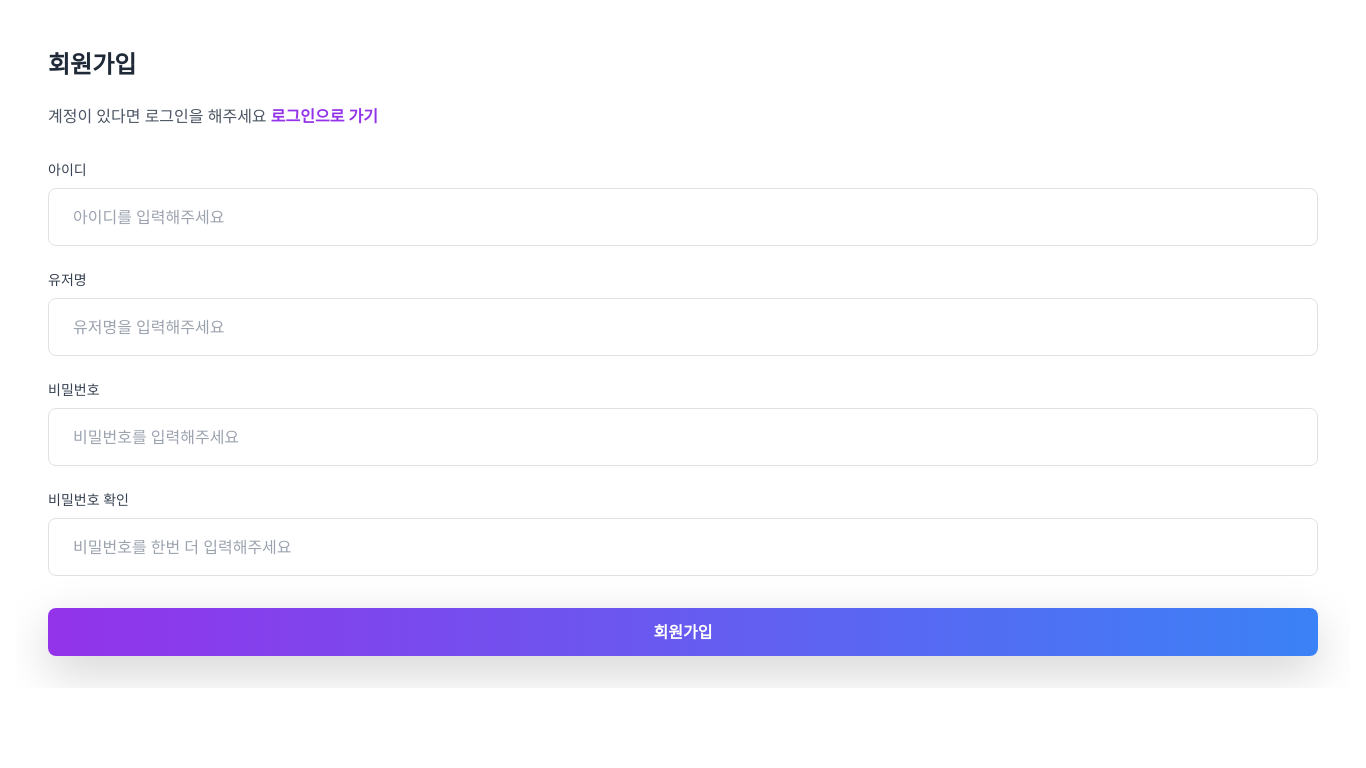
it: UserForm › 회원가입 폼 제출 - 비밀번호 불일치
Type "testId1" into the field labelled "아이디".
click(683, 217); type("testId1")  # box [48,188,1318,246]
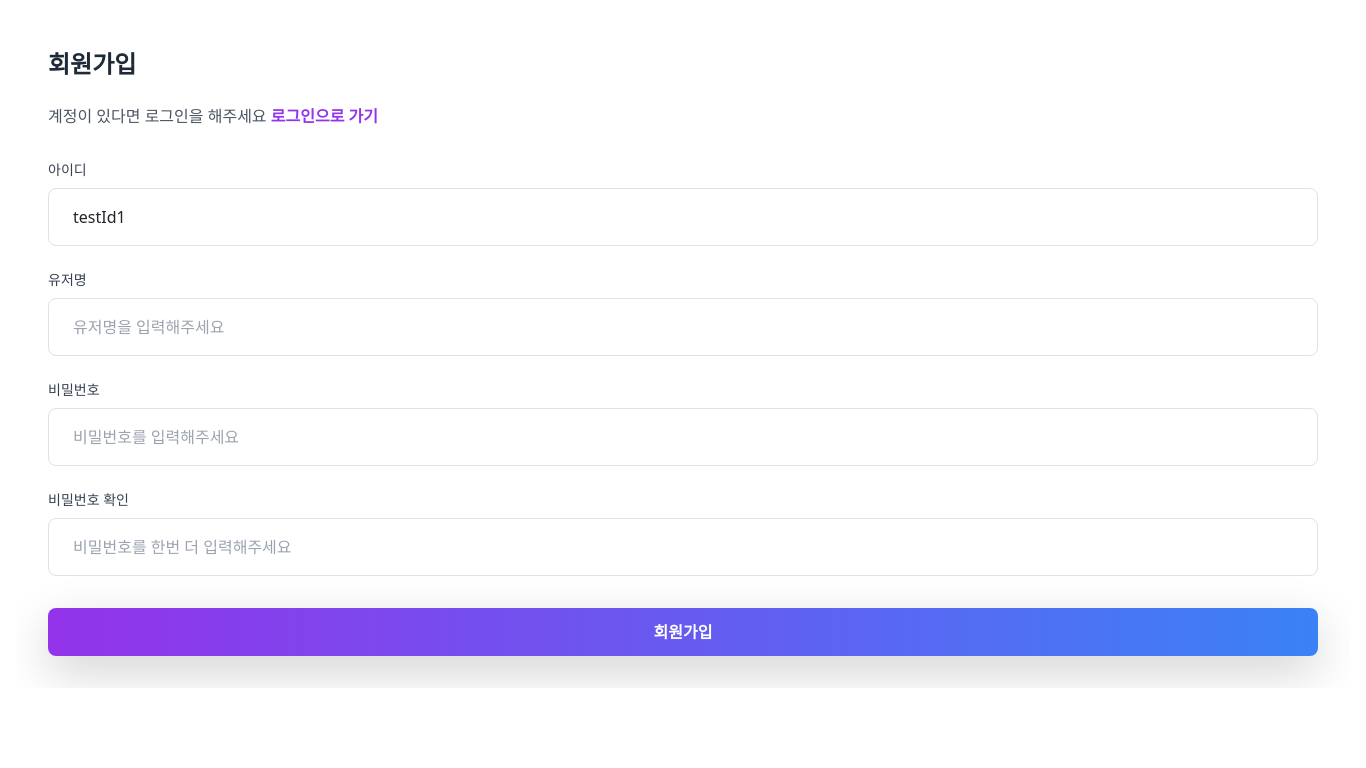
Type "testUser1" into the field labelled "유저명".
click(683, 327); type("testUser1")  # box [48,298,1318,356]
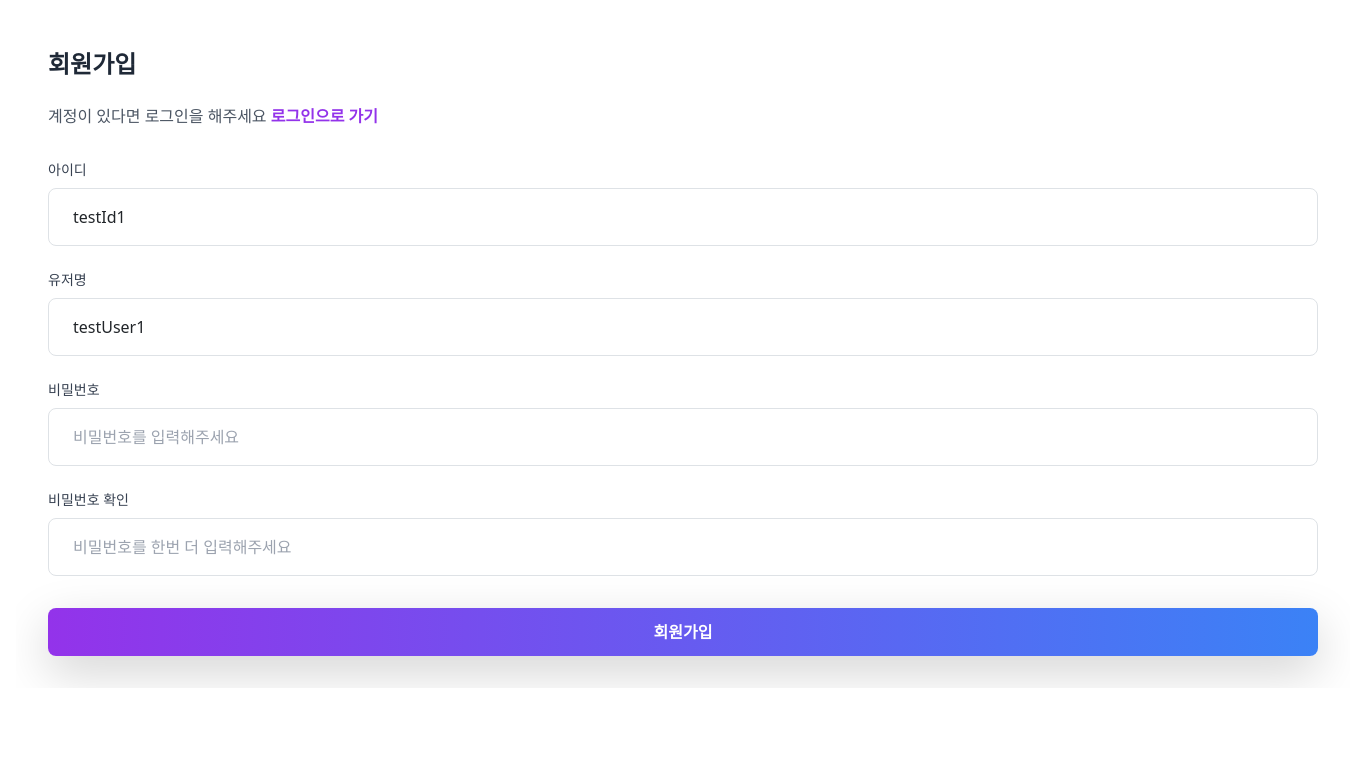
Type "1234" into the password field labelled "비밀번호".
click(683, 437); type("1234")  # box [48,408,1318,466]
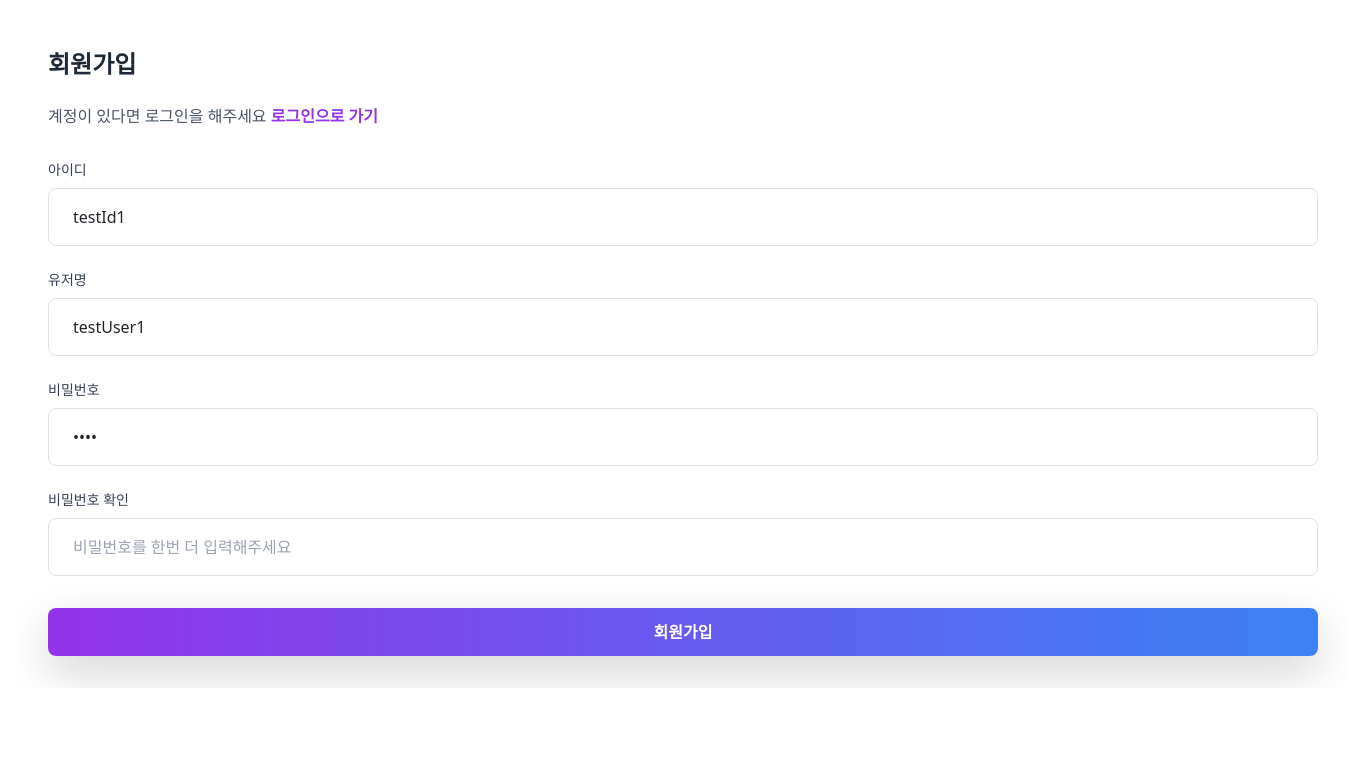
Type "12345" into the password field labelled "비밀번호 확인".
click(683, 547); type("12345")  # box [48,518,1318,576]
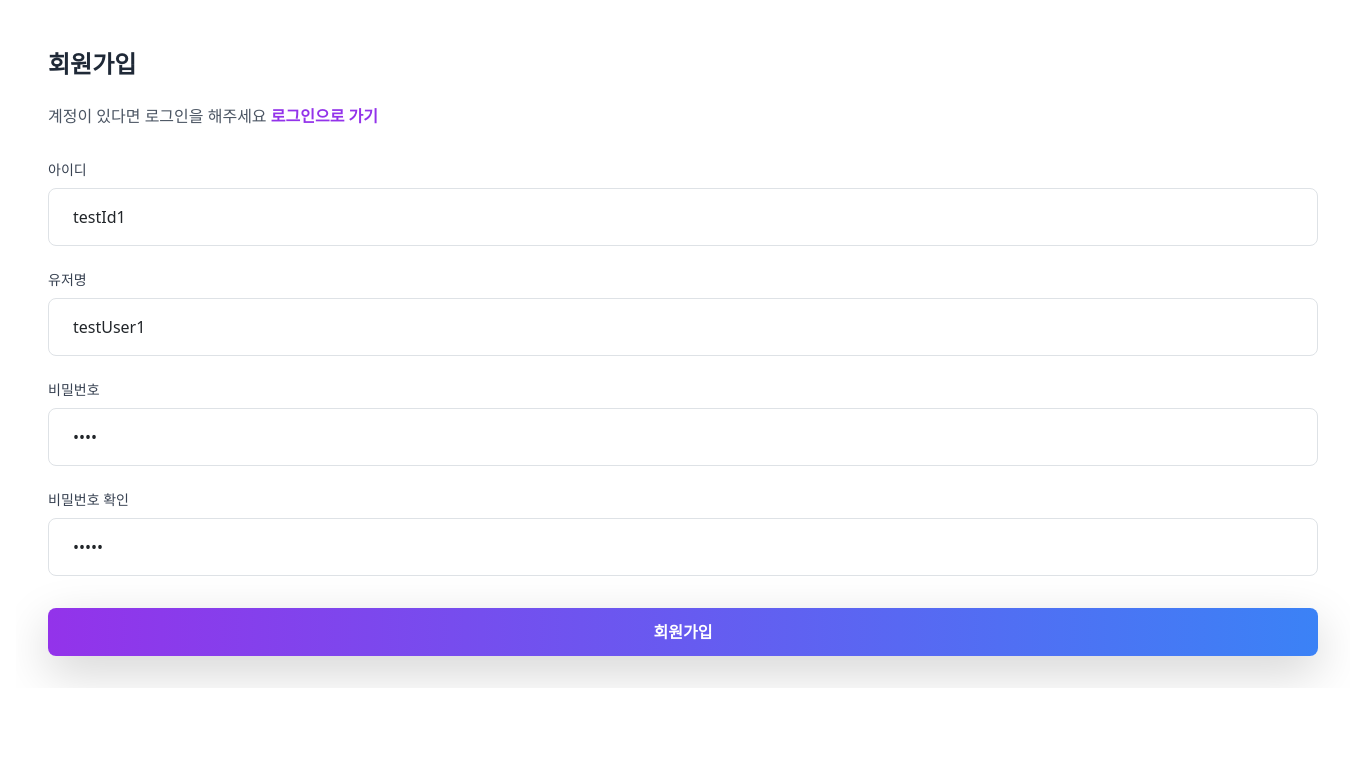
Click the button "회원가입".
click(683, 632)  # box [48,608,1318,656]
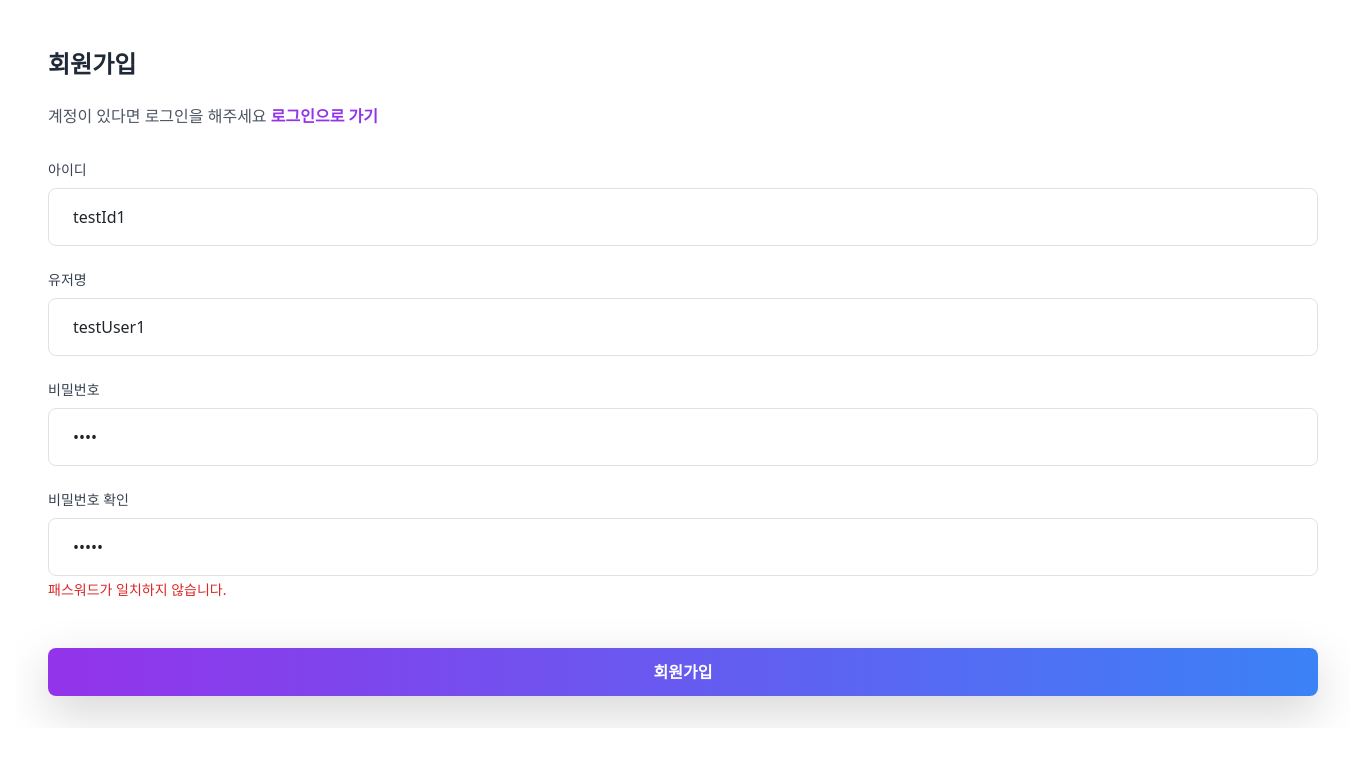
Expected: the text "패스워드가 일치하지 않습니다." is shown, [48,580,226,599]
